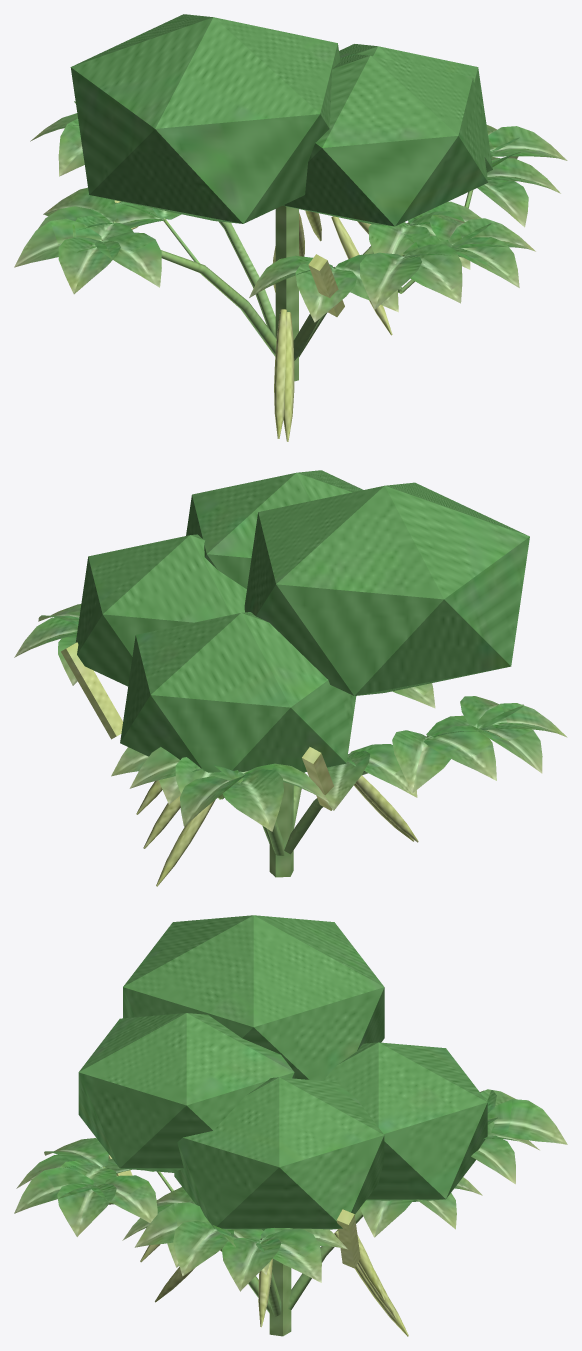
The model's file is frijol.glb.
3 renders of one model, top to bottom at view 1: azimuth 30°, elevation 25°; view 2: azimuth 150°, elevation 25°; view 3: azimuth 270°, elevation 25°, orthographic. The views are drawn at different scales.
Visible parts, largest first — view 1: frijol_lp, frijol; view 2: frijol_lp, frijol; view 3: frijol_lp, frijol.
Part boxes in pixels (x1,y1,x2,y2): frijol_lp: [70, 14, 492, 381]; frijol: [14, 101, 567, 441]; frijol_lp: [61, 470, 529, 877]; frijol: [14, 604, 567, 886]; frijol_lp: [78, 915, 487, 1336]; frijol: [14, 1089, 567, 1336].
Size of the model in its own units: 0.7299 by 0.5223 by 0.697.
2 materials, 2 textured.
